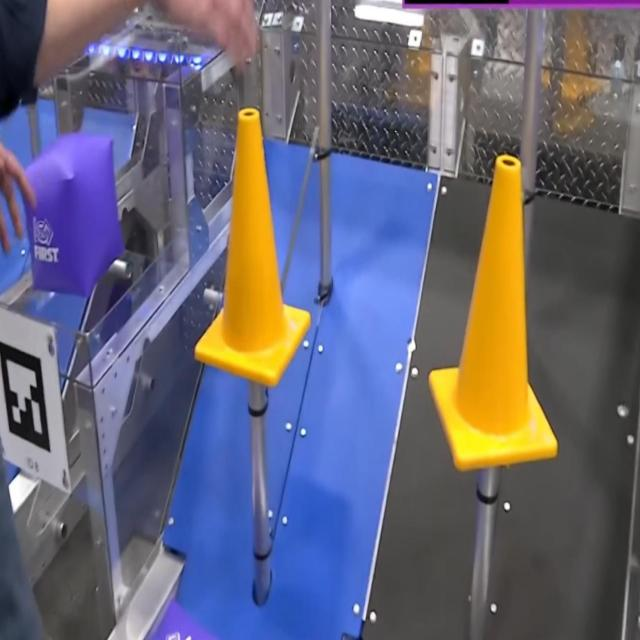frc_cone: (426, 156, 557, 472), (193, 108, 311, 386)
frc_cube: (22, 132, 124, 296), (137, 599, 223, 640)
